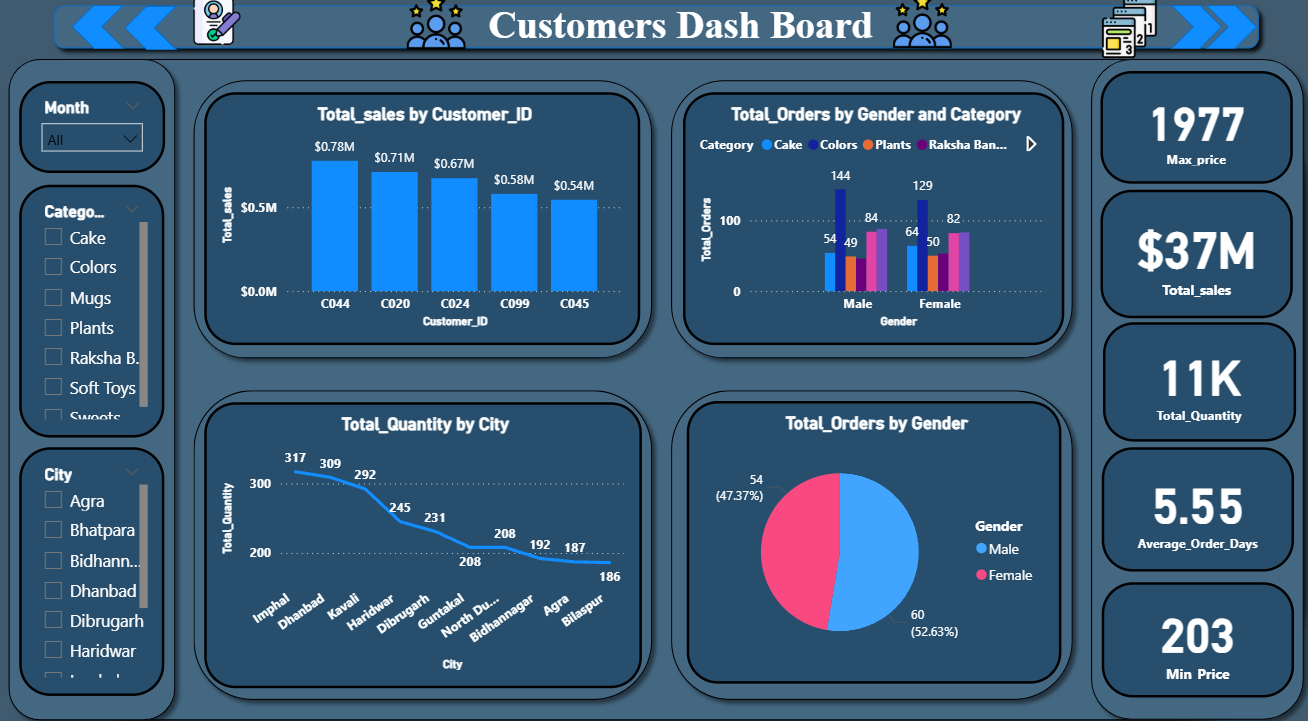

Layout of this report page (visuals, bound fields, positions):
{"tool":"powerbi","page":{"name":"Customers","canvas":[1280,720],"ordinal":3},"visuals":[{"type":"shape","box":[16,61.9,1258,656.1],"z":0},{"type":"card","fields":{"Values":["DAX TABLE.Average_Order_Days"]},"box":[1070.2,445.5,185.7,120],"z":0,"group":"g1"},{"type":"shape","box":[1050.5,62.1,223.3,655.6],"z":1000},{"type":"card","fields":{"Values":["DAX TABLE.Total_sales"]},"box":[1068.5,197,185.7,124.3],"z":1000,"group":"g1"},{"type":"shape","box":[184.6,82.6,460.6,286.3],"z":2000},{"type":"shape","box":[645.2,82.6,405.6,286.3],"z":3000},{"type":"card","fields":{"Values":["DAX TABLE.Total_Cities"]},"box":[1070.2,575.5,185.7,111.4],"z":3000,"group":"g1"},{"type":"shape","box":[5.7,61.4,178.9,656.2],"z":4000},{"type":"card","fields":{"Values":["DAX TABLE.Total_Customers"]},"box":[1069,82.6,185.3,108.7],"z":4000,"group":"g1"},{"type":"card","fields":{"Values":["DAX TABLE.Total_Quantity"]},"box":[1070.3,325.6,186.2,115],"z":5000,"group":"g1"},{"type":"shape","box":[184.6,380.9,460.6,316.8],"z":5000},{"type":"shape","box":[645.2,380.9,405.6,316.8],"z":6000},{"type":"group","id":"g1","title":"Group 1","box":[1068.5,82.6,188.1,604.4],"z":7000},{"type":"slicer","fields":{"Values":["orders.Month"]},"box":[25.4,91.9,140.8,88.8],"z":8000},{"type":"columnChart","fields":{"Category":["customers.Customer_ID"],"Y":["DAX TABLE.Total_sales"]},"box":[204.3,102.5,421.1,243.9],"z":9000},{"type":"pieChart","fields":{"Category":["customers.Gender"],"Y":["DAX TABLE.Total_Orders"]},"box":[669.1,400.8,362,273.1],"z":10000},{"type":"clusteredColumnChart","fields":{"Category":["customers.Gender"],"Series":["products.Category"],"Y":["DAX TABLE.Total_Orders"]},"box":[665.7,102.8,368.2,243.9],"z":11000},{"type":"lineChart","fields":{"Y":["DAX TABLE.Total_Quantity"],"Category":["customers.City"]},"box":[204,401.4,422,275.9],"z":12000},{"type":"slicer","fields":{"Values":["products.Category"]},"box":[25.5,192.1,140.2,243.9],"z":13000},{"type":"slicer","fields":{"Values":["customers.City"]},"box":[25.5,445.4,140.2,239.9],"z":14000},{"type":"shape","box":[49.6,9.9,1181.2,59.5],"z":15000},{"type":"textbox","box":[428.6,11.4,480,55.7],"z":16000},{"type":"image","box":[395,1.2,66.2,66.2],"z":17000},{"type":"image","box":[863.8,0,66.2,66.2],"z":18000},{"type":"image","box":[188.5,3,56.5,62.5],"z":19000},{"type":"shape","box":[127.1,18.7,51,42.3],"z":20000},{"type":"shape","box":[76,18,51,42.5],"z":21000},{"type":"image","box":[1051.2,5,91.2,70],"z":22000},{"type":"shape","box":[1170,17.5,50,42.5],"z":23000},{"type":"shape","box":[1136.2,17.5,50,42.5],"z":24000}]}

Visuals, with their boxes in screenshot pixels (x1, y1, x2, y2), scaled from the page's 1280x720 canvas onto the 1308x721 screenshot:
shape: {"x1": 16, "y1": 62, "x2": 1302, "y2": 719}
card - DAX TABLE.Average_Order_Days: {"x1": 1094, "y1": 446, "x2": 1283, "y2": 566}
shape: {"x1": 1073, "y1": 62, "x2": 1302, "y2": 719}
card - DAX TABLE.Total_sales: {"x1": 1092, "y1": 197, "x2": 1282, "y2": 322}
shape: {"x1": 189, "y1": 83, "x2": 659, "y2": 369}
shape: {"x1": 659, "y1": 83, "x2": 1074, "y2": 369}
card - DAX TABLE.Total_Cities: {"x1": 1094, "y1": 576, "x2": 1283, "y2": 688}
shape: {"x1": 6, "y1": 61, "x2": 189, "y2": 719}
card - DAX TABLE.Total_Customers: {"x1": 1092, "y1": 83, "x2": 1282, "y2": 192}
card - DAX TABLE.Total_Quantity: {"x1": 1094, "y1": 326, "x2": 1284, "y2": 441}
shape: {"x1": 189, "y1": 381, "x2": 659, "y2": 699}
shape: {"x1": 659, "y1": 381, "x2": 1074, "y2": 699}
"Group 1" group: {"x1": 1092, "y1": 83, "x2": 1284, "y2": 688}
slicer - orders.Month: {"x1": 26, "y1": 92, "x2": 170, "y2": 181}
columnChart - customers.Customer_ID x DAX TABLE.Total_sales: {"x1": 209, "y1": 103, "x2": 639, "y2": 347}
pieChart - customers.Gender x DAX TABLE.Total_Orders: {"x1": 684, "y1": 401, "x2": 1054, "y2": 675}
clusteredColumnChart - customers.Gender x products.Category: {"x1": 680, "y1": 103, "x2": 1057, "y2": 347}
lineChart - DAX TABLE.Total_Quantity x customers.City: {"x1": 208, "y1": 402, "x2": 640, "y2": 678}
slicer - products.Category: {"x1": 26, "y1": 192, "x2": 169, "y2": 437}
slicer - customers.City: {"x1": 26, "y1": 446, "x2": 169, "y2": 686}
shape: {"x1": 51, "y1": 10, "x2": 1258, "y2": 69}
textbox: {"x1": 438, "y1": 11, "x2": 928, "y2": 67}
image: {"x1": 404, "y1": 1, "x2": 471, "y2": 67}
image: {"x1": 883, "y1": 0, "x2": 950, "y2": 66}
image: {"x1": 193, "y1": 3, "x2": 250, "y2": 66}
shape: {"x1": 130, "y1": 19, "x2": 182, "y2": 61}
shape: {"x1": 78, "y1": 18, "x2": 130, "y2": 61}
image: {"x1": 1074, "y1": 5, "x2": 1167, "y2": 75}
shape: {"x1": 1196, "y1": 18, "x2": 1247, "y2": 60}
shape: {"x1": 1161, "y1": 18, "x2": 1212, "y2": 60}
